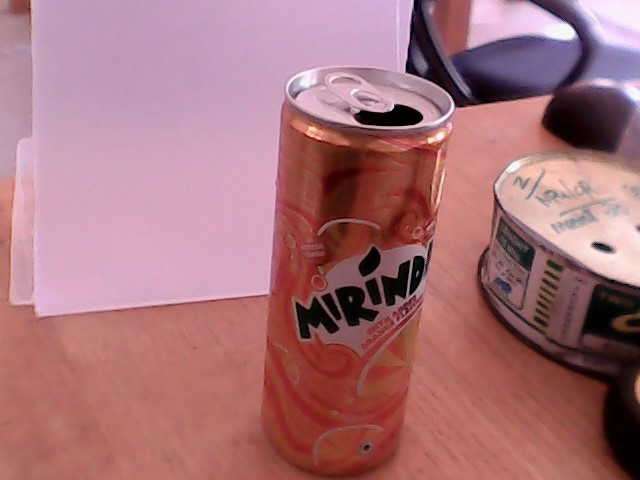Metal: (262, 73, 431, 480)
